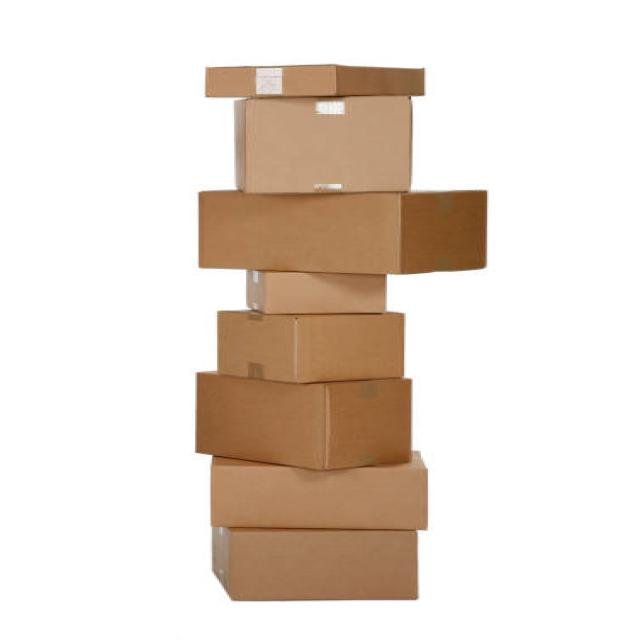electronic: (195, 188, 487, 274), (194, 370, 412, 471), (231, 94, 416, 194), (209, 450, 429, 530), (210, 526, 420, 601), (214, 308, 406, 384), (204, 63, 424, 97), (245, 268, 387, 314)
